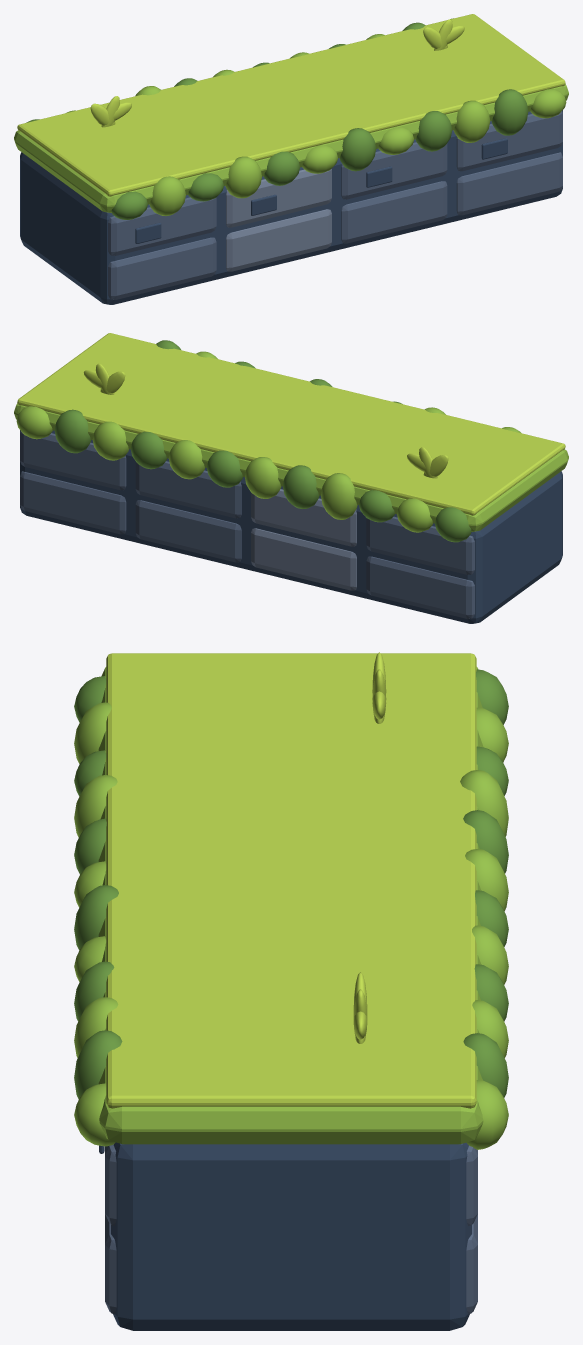
File: platformWide.glb
3 views of the same model, one above another, from view 1: azimuth 30°, elevation 25°; view 2: azimuth 150°, elevation 25°; view 3: azimuth 270°, elevation 25° (orthographic). The views are drawn at different scales.
Visible parts, largest first — view 1: SunlitLandingTop, Foundation, Masonry_L1_0, Masonry_L1_3, Masonry_L1_2, Masonry_L1_1, GrassLandingSurface, Masonry_L0_0, Masonry_L0_1, Masonry_L0_2, Masonry_L0_3, GrassEdgeScallop.010 (+15 smaller); view 2: SunlitLandingTop, Foundation, Masonry_L1_0, Masonry_L1_3, Masonry_L1_2, Masonry_L1_1, Masonry_L0_0, GrassLandingSurface, Masonry_L0_2, Masonry_L0_3, Masonry_L0_1, GrassEdgeScallop.015 (+11 smaller); view 3: SunlitLandingTop, Foundation, GrassLandingSurface, Masonry_L1_3, Masonry_L0_3, GrassEdgeScallop.010, GrassEdgeScallop.023, GrassEdgeScallop.006, GrassEdgeScallop.015, GrassEdgeScallop.022, GrassEdgeScallop.011, GrassEdgeScallop.003 (+16 smaller).
Boxes of the visible parts, left/top/right/bottom form: SunlitLandingTop: left=17, top=14, right=565, bottom=196; Foundation: left=20, top=110, right=562, bottom=304; Masonry_L1_0: left=108, top=237, right=216, bottom=299; Masonry_L1_3: left=456, top=152, right=562, bottom=215; Masonry_L1_2: left=341, top=181, right=447, bottom=243; Masonry_L1_1: left=226, top=209, right=331, bottom=271; GrassLandingSurface: left=14, top=84, right=568, bottom=212; Masonry_L0_0: left=108, top=197, right=216, bottom=255; Masonry_L0_1: left=226, top=169, right=331, bottom=227; Masonry_L0_2: left=341, top=142, right=447, bottom=199; Masonry_L0_3: left=456, top=111, right=562, bottom=171; GrassEdgeScallop.010: left=491, top=89, right=528, bottom=135; SunlitLandingTop: left=17, top=333, right=565, bottom=515; Foundation: left=20, top=430, right=562, bottom=623; Masonry_L1_0: left=366, top=556, right=474, bottom=618; Masonry_L1_3: left=20, top=471, right=126, bottom=534; Masonry_L1_2: left=135, top=500, right=241, bottom=562; Masonry_L1_1: left=251, top=528, right=356, bottom=590; Masonry_L0_0: left=366, top=516, right=474, bottom=574; GrassLandingSurface: left=14, top=403, right=568, bottom=531; Masonry_L0_2: left=135, top=461, right=241, bottom=518; Masonry_L0_3: left=20, top=431, right=126, bottom=490; Masonry_L0_1: left=251, top=489, right=356, bottom=546; GrassEdgeScallop.015: left=321, top=473, right=357, bottom=519; SunlitLandingTop: left=106, top=653, right=476, bottom=1108; Foundation: left=111, top=1142, right=471, bottom=1330; GrassLandingSurface: left=98, top=667, right=483, bottom=1144; Masonry_L1_3: left=105, top=1214, right=477, bottom=1314; Masonry_L0_3: left=105, top=1144, right=477, bottom=1226; GrassEdgeScallop.010: left=74, top=1030, right=122, bottom=1099; GrassEdgeScallop.023: left=466, top=1080, right=508, bottom=1149; GrassEdgeScallop.006: left=74, top=885, right=118, bottom=950; GrassEdgeScallop.015: left=460, top=770, right=508, bottom=836; GrassEdgeScallop.022: left=463, top=1033, right=508, bottom=1097; GrassEdgeScallop.011: left=74, top=1083, right=115, bottom=1146; GrassEdgeScallop.003: left=74, top=775, right=117, bottom=837.
Size of the model in its own units: 3.44 by 1.03 by 1.39.
